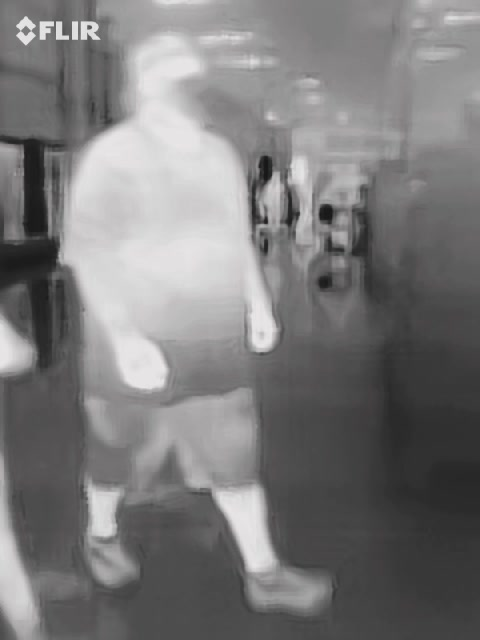head: (122, 31, 210, 126)
